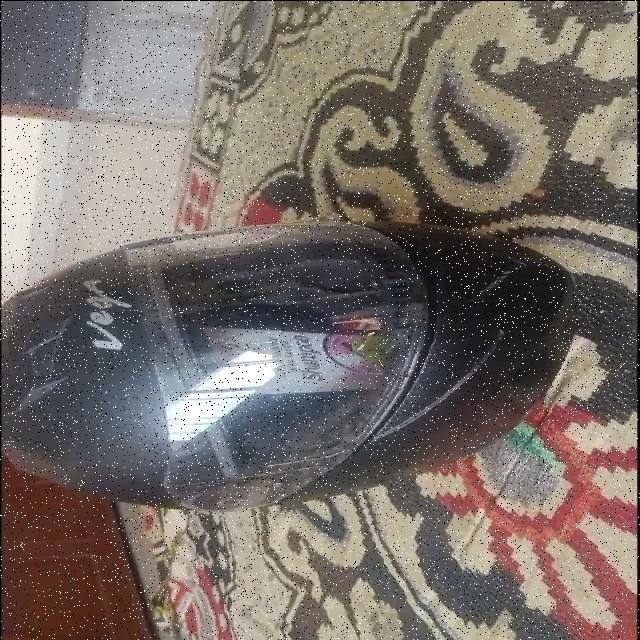Helmet: (4, 219, 584, 512)
